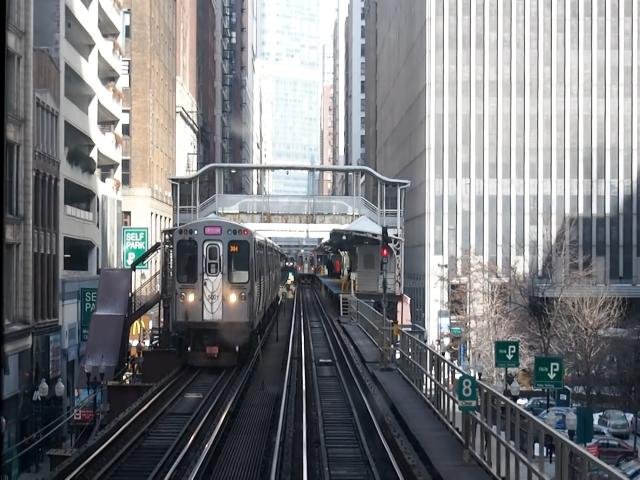signal light: (382, 227, 392, 267)
